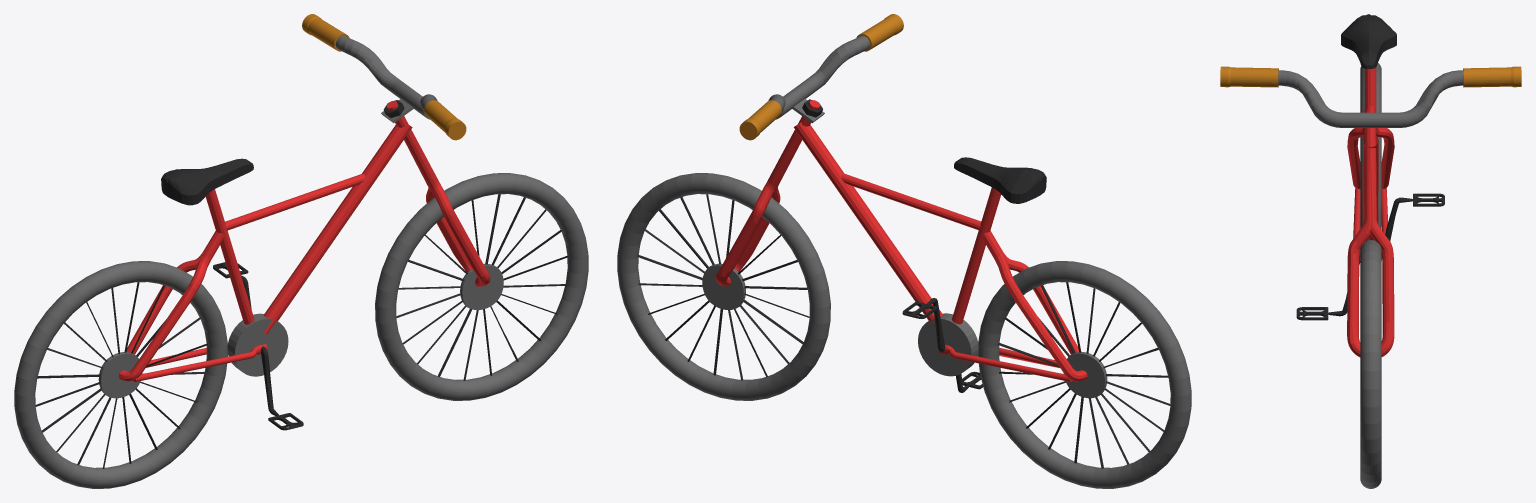
File: Velo (1).fbx
3 views of the same model, side by side, from view 1: azimuth 30°, elevation 25°; view 2: azimuth 150°, elevation 25°; view 3: azimuth 270°, elevation 25° (orthographic). The views are drawn at different scales.
Parts seen in each view (by area): view 1: NurbsCurve.003; view 2: NurbsCurve.003; view 3: NurbsCurve.003.
Boxes of the visible parts, box(x1,y1,x2,y2) form: NurbsCurve.003: box(14, 14, 588, 488); NurbsCurve.003: box(617, 14, 1191, 488); NurbsCurve.003: box(1220, 14, 1521, 488).
Bounding box in the file's own units: 276 × 163 × 123.
